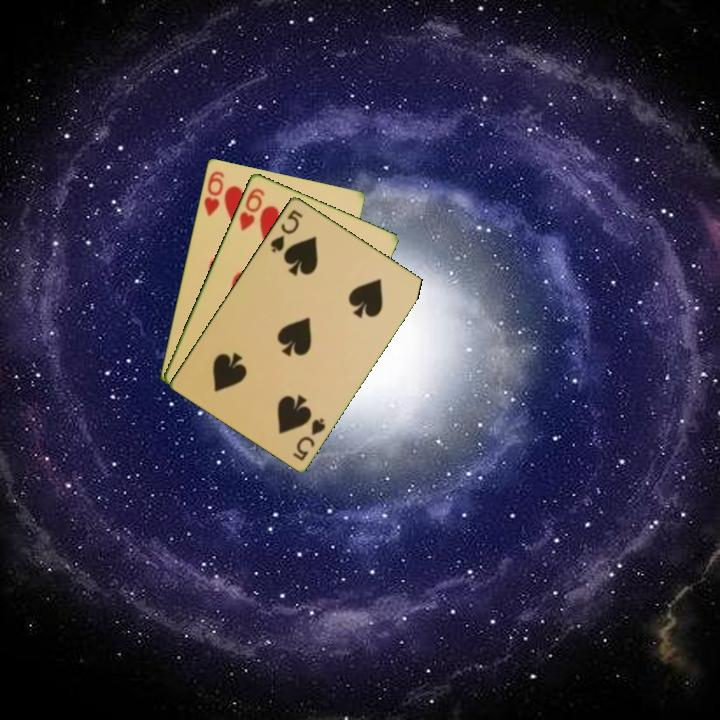5s: (266, 206, 306, 255), (289, 414, 328, 463)
6h: (235, 184, 267, 233), (200, 167, 227, 219)
